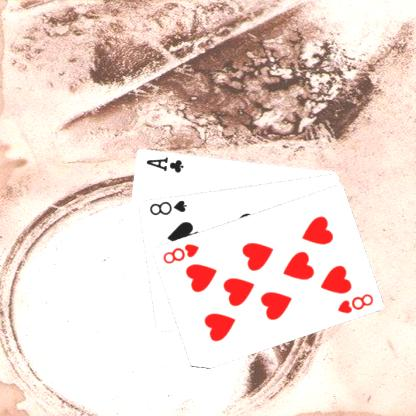8H: (161, 241, 202, 265), (336, 291, 376, 315)
8S: (148, 197, 190, 216)
AC: (145, 154, 186, 174)
